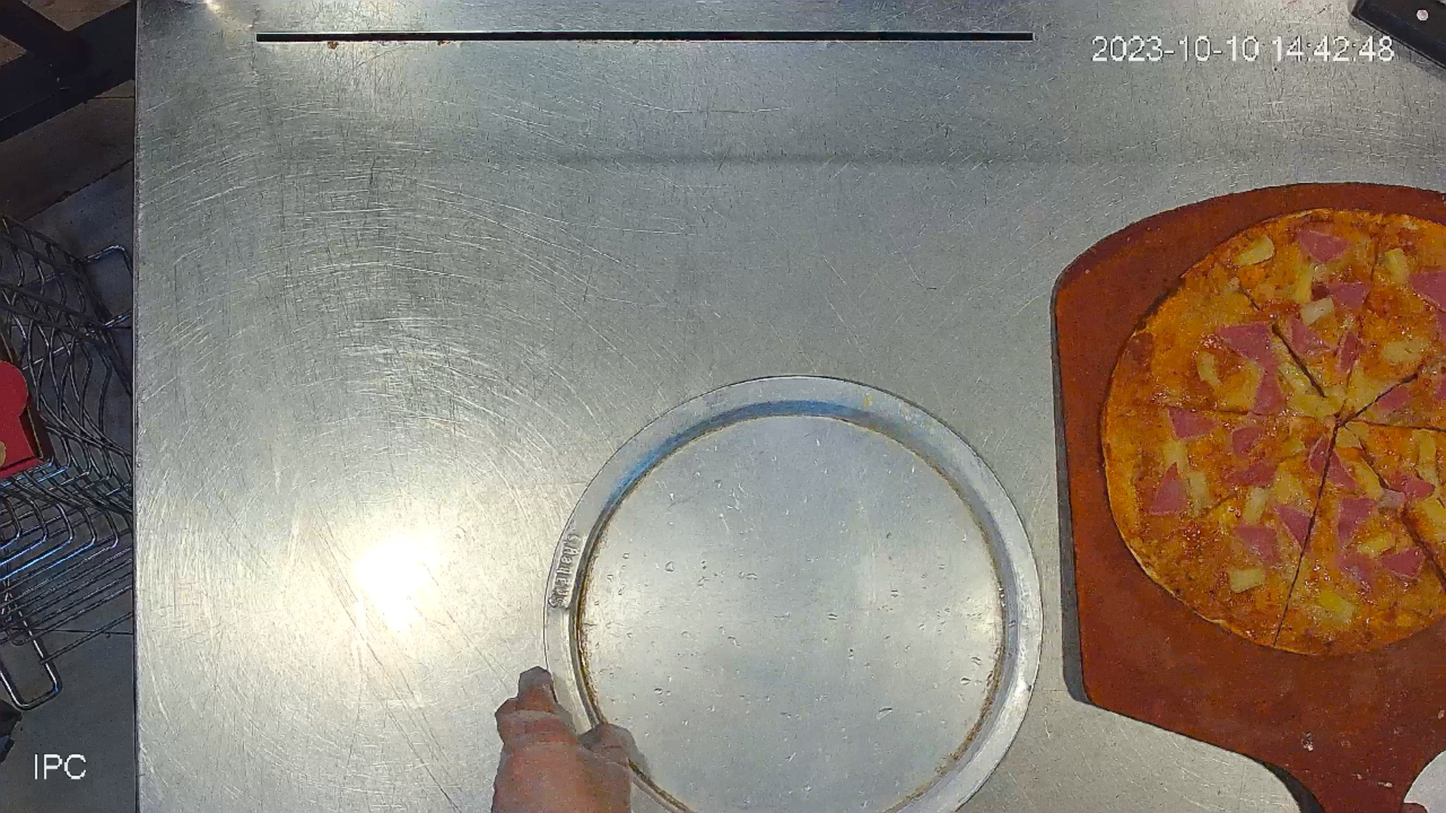hawaiian: (1093, 202, 1445, 664)
